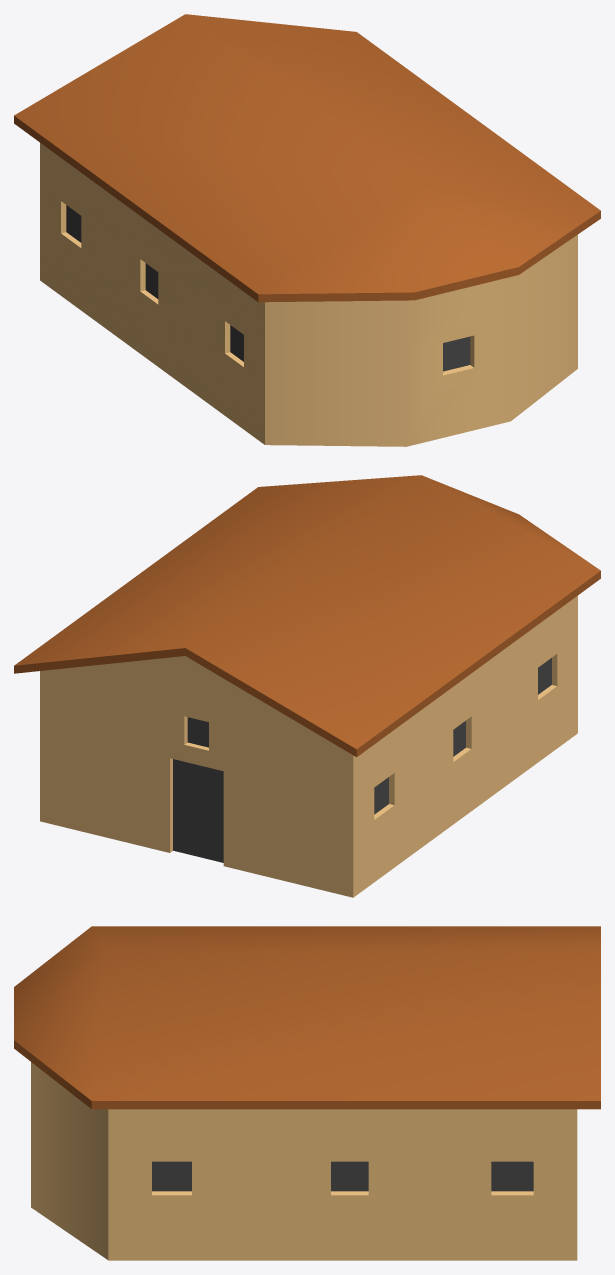
File: Building 04.FBX
3 views of the same model, one above another, from view 1: azimuth 30°, elevation 25°; view 2: azimuth 150°, elevation 25°; view 3: azimuth 270°, elevation 25° (orthographic). The views are drawn at different scales.
Visible parts, largest first — view 1: Box001; view 2: Box001; view 3: Box001.
Part boxes in pixels (x1,y1,x2,y2): Box001: (14,14,600,446); Box001: (14,475,600,897); Box001: (14,926,600,1260).
Bounding box in the file's own units: 10.17 × 6.23 × 14.46.
